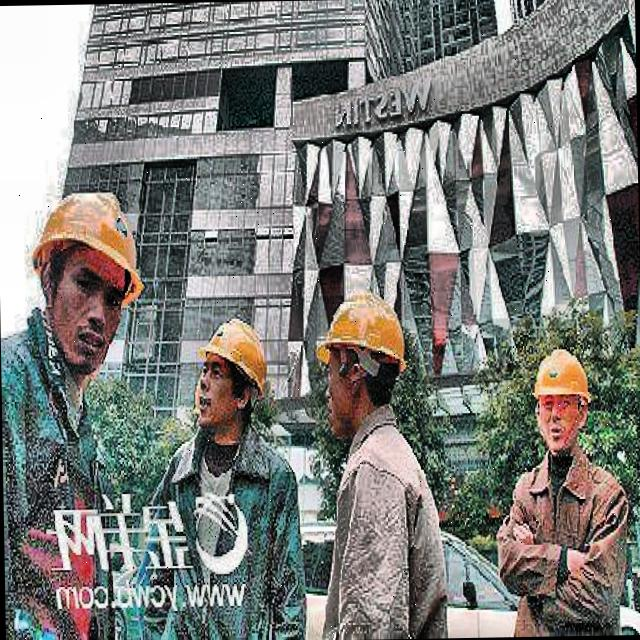helmet: (24, 178, 150, 388), (315, 284, 412, 446), (189, 311, 271, 441), (528, 338, 599, 463)
